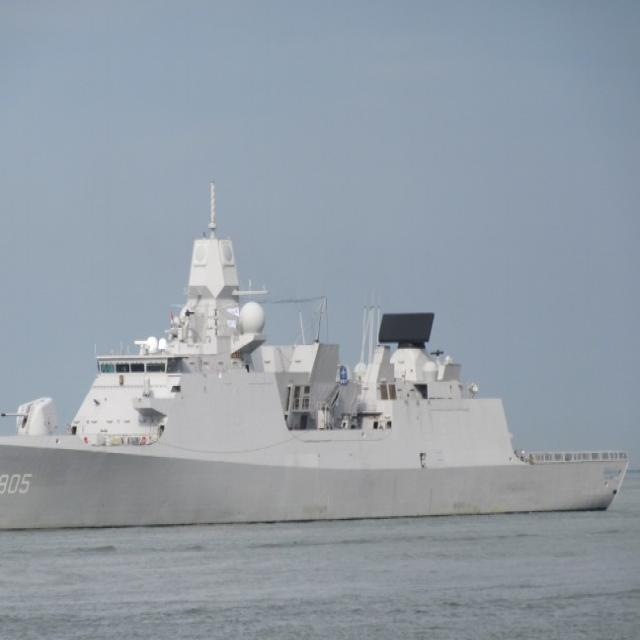Fragata: (1, 179, 633, 538)
